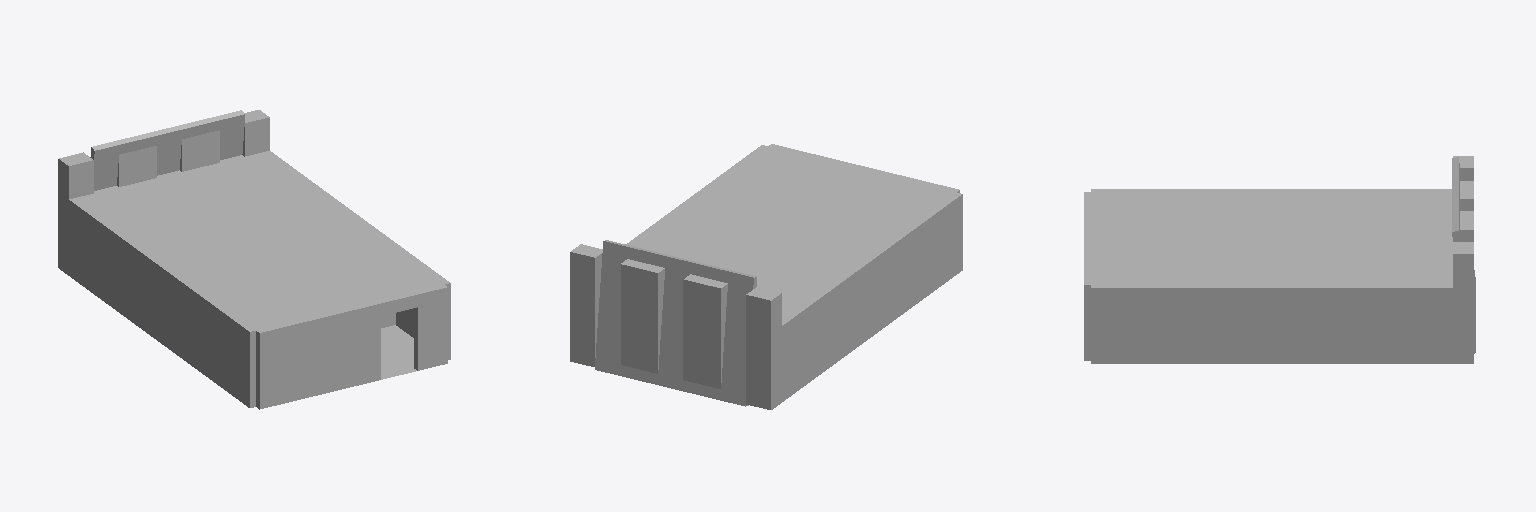
File: LC_room1_archive.obj
3 renders of one model, left to right at view 1: azimuth 30°, elevation 25°; view 2: azimuth 150°, elevation 25°; view 3: azimuth 270°, elevation 25°, orthographic.
Visible parts, largest first — view 1: LC_room1_archive; view 2: LC_room1_archive; view 3: LC_room1_archive.
Part boxes in pixels (bbox=[...]): LC_room1_archive: bbox=[58, 110, 450, 409]; LC_room1_archive: bbox=[570, 144, 962, 409]; LC_room1_archive: bbox=[1084, 156, 1475, 363].
Bounding box in the file's own units: 10.56 × 6.24 × 17.83.